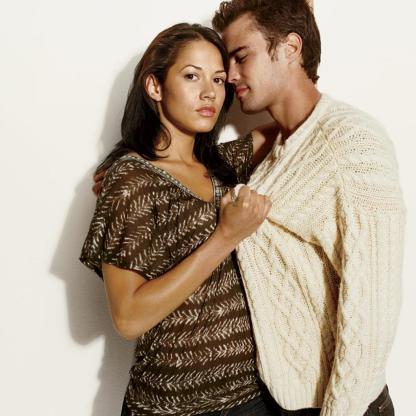face: (169, 45, 227, 133), (226, 25, 282, 114)
